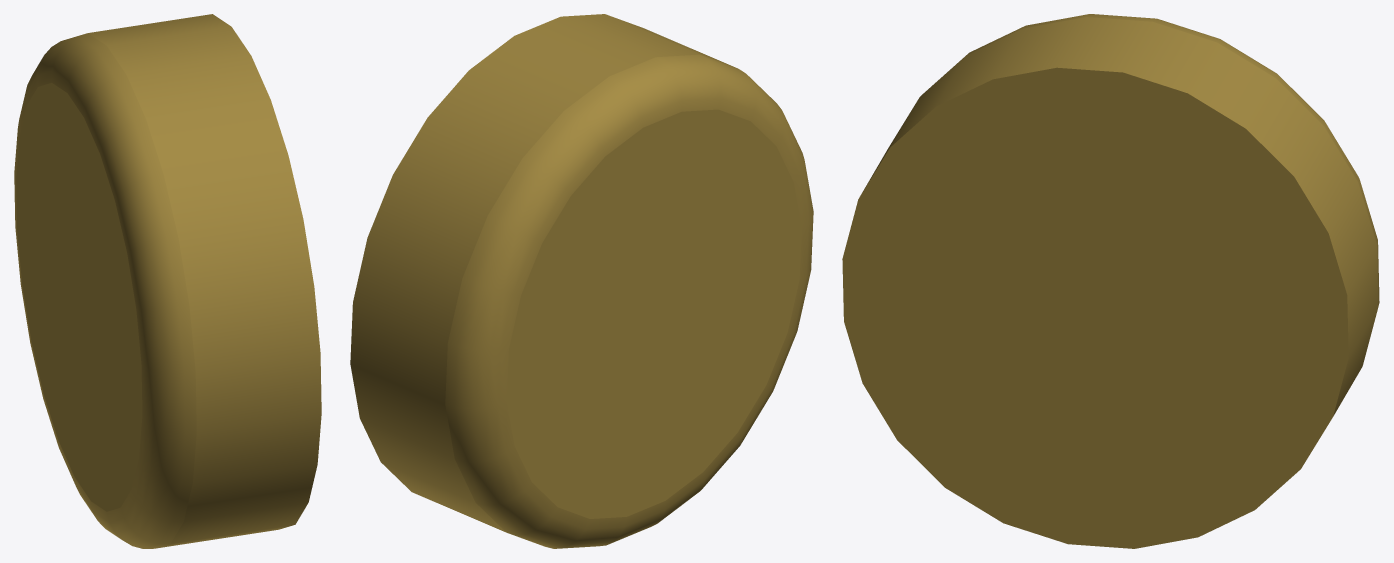
Rendered from original-58.obj.
3 renders of one model, left to right at view 1: azimuth 30°, elevation 25°; view 2: azimuth 150°, elevation 25°; view 3: azimuth 270°, elevation 25°, orthographic.
Parts seen in each view (by area): view 1: Component_5_51/Component_5/mesh11/mesh11-geometry#mesh11-geometr; view 2: Component_5_51/Component_5/mesh11/mesh11-geometry#mesh11-geometr; view 3: Component_5_51/Component_5/mesh11/mesh11-geometry#mesh11-geometr.
Part boxes in pixels (<box>): Component_5_51/Component_5/mesh11/mesh11-geometry#mesh11-geometr: <box>14,14,321,548</box>; Component_5_51/Component_5/mesh11/mesh11-geometry#mesh11-geometr: <box>350,14,813,548</box>; Component_5_51/Component_5/mesh11/mesh11-geometry#mesh11-geometr: <box>842,14,1379,548</box>.
Size of the model in its own units: 0.0304 by 0.0568 by 0.0583.
